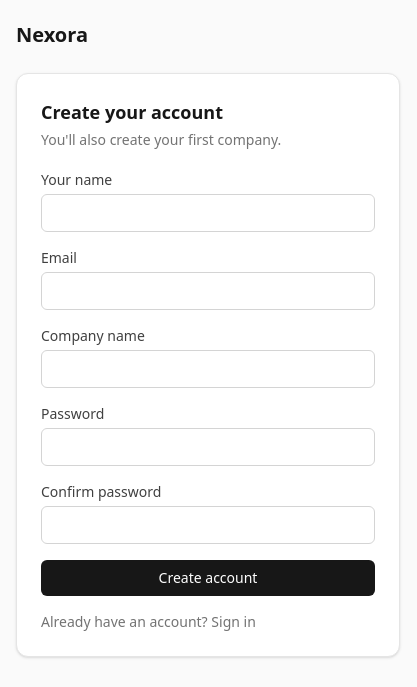
Test case: shows per-field validation errors
In the field labelled "Your name": (208, 213) top-left (41, 194), bottom-right (375, 232), type "Ada"
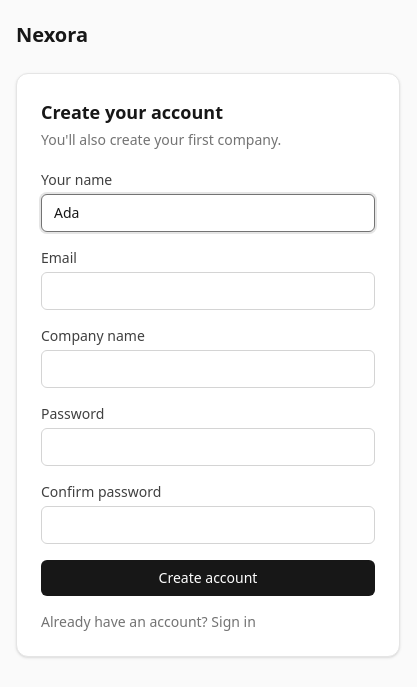
In the field labelled "Email": (208, 291) top-left (41, 272), bottom-right (375, 310), type "ada@example.com"
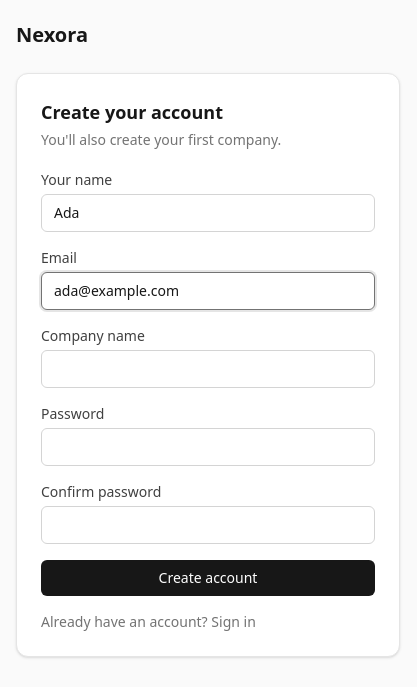
In the field labelled "Company name": (208, 369) top-left (41, 350), bottom-right (375, 388), type "Engines"
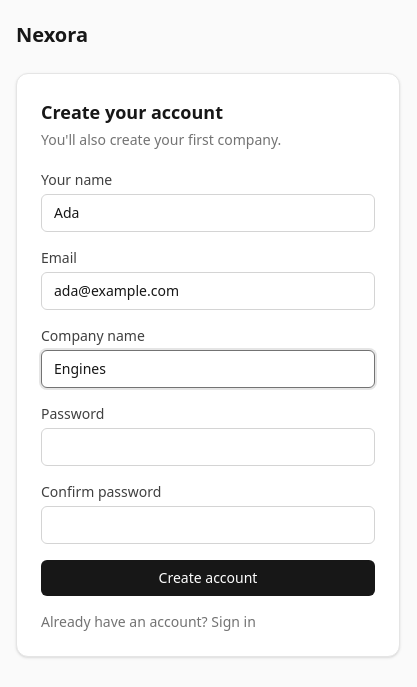
In the password field labelled "Password": (208, 447) top-left (41, 428), bottom-right (375, 466), type "Str0ng-pass!"
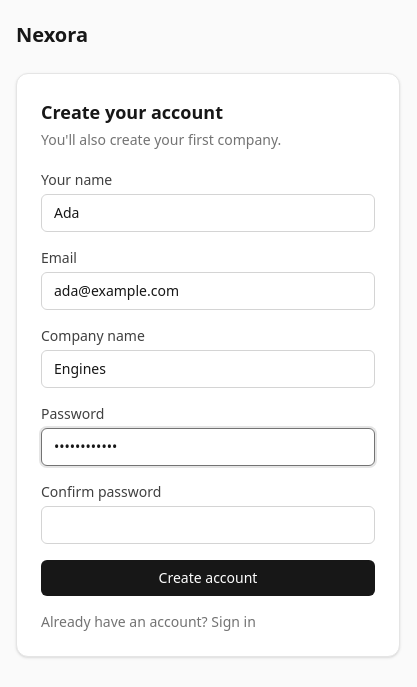
In the password field labelled "Confirm password": (208, 525) top-left (41, 506), bottom-right (375, 544), type "Str0ng-pass!"
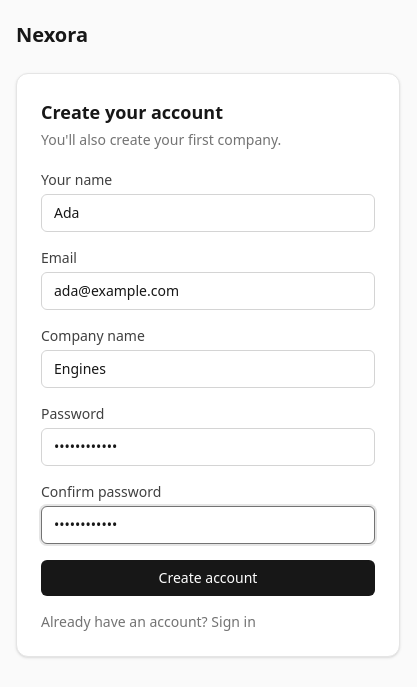
Click the button "Create account": click(208, 578) top-left (41, 560), bottom-right (375, 596)
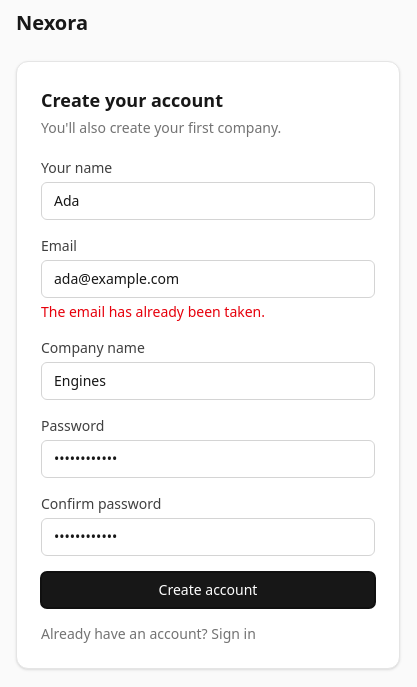
expect the message reads "The email has already been taken.": met, box top-left (41, 302), bottom-right (265, 321)
